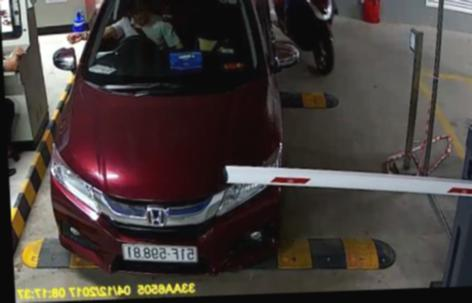License_Plate: (119, 241, 201, 264)
